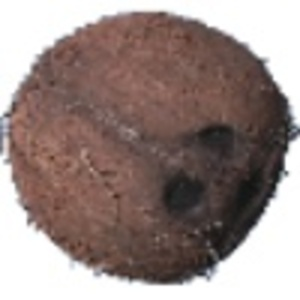coco: (1, 9, 300, 285)
